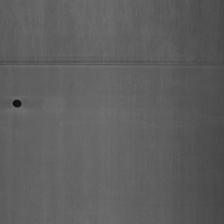welding_line: (0, 56, 224, 74), (11, 96, 23, 110)
